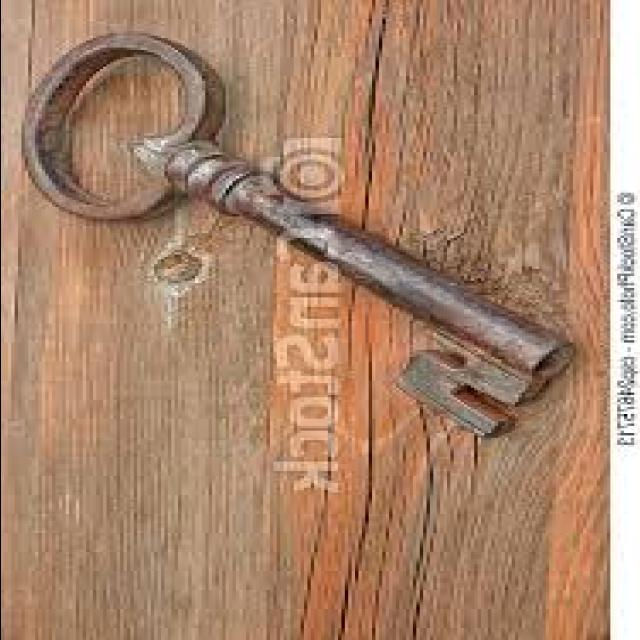key: (12, 25, 580, 483)
